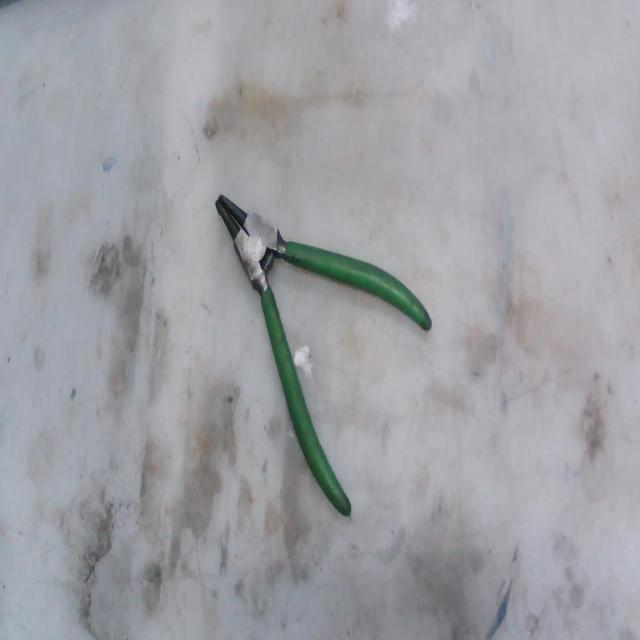tang_scun_hidrolik: (190, 138, 460, 559)
